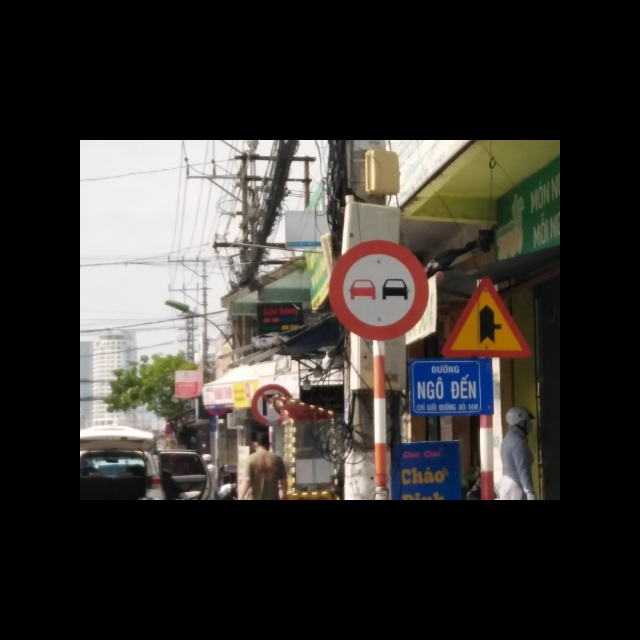Cấm vượt: (327, 239, 430, 340)
Giao nhau với đường không ưu tiên: (444, 275, 535, 360)
